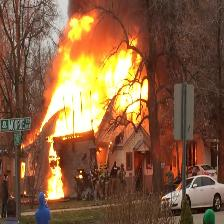fire: (61, 55, 138, 131), (46, 137, 63, 200), (69, 17, 92, 40)
